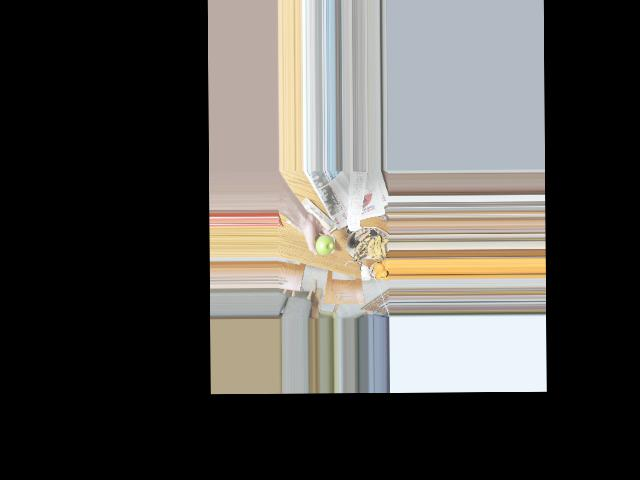apple: (312, 232, 335, 256)
